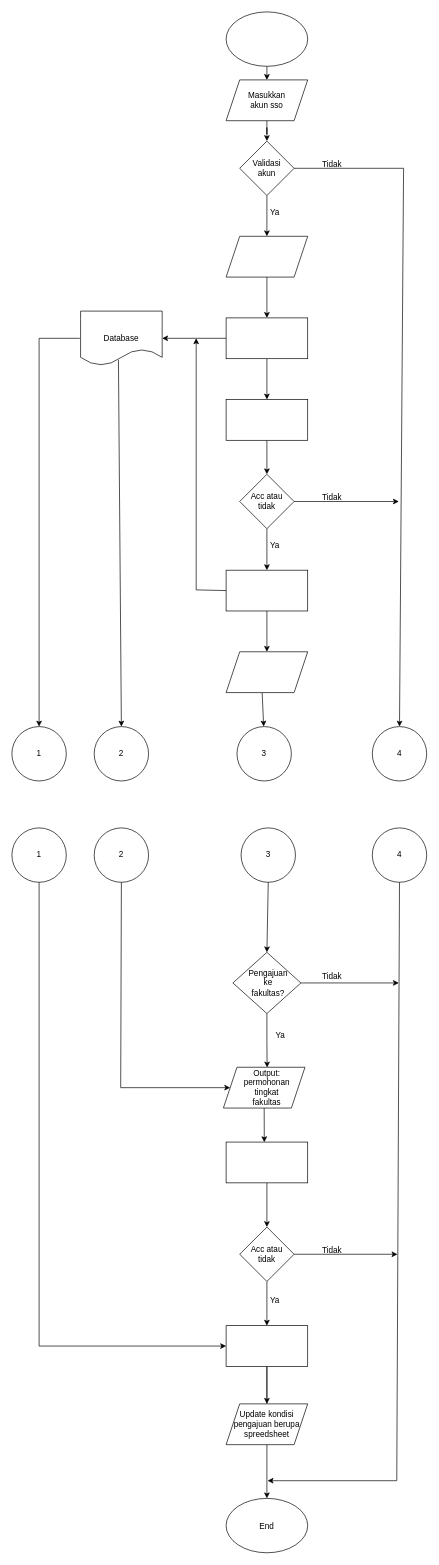
This 439x1565 diagram has some shape labels left out. Here are the shapes that lost their labels. From the top down, the centre of each, then its label:
At point (266, 38): "Start".
At point (266, 256): "Input Pemohon".
At point (266, 338): "Masuk Database".
At point (266, 419): "Pengecekan dari pihak prodi".
At point (266, 590): "Update spreedsheet (hijau)".
At point (266, 672): "Input selesai atau lanjut ke fakultas".
At point (266, 1162): "Pengecekan dari pihak fakultas".
At point (266, 1345): "Update spreedsheet".
